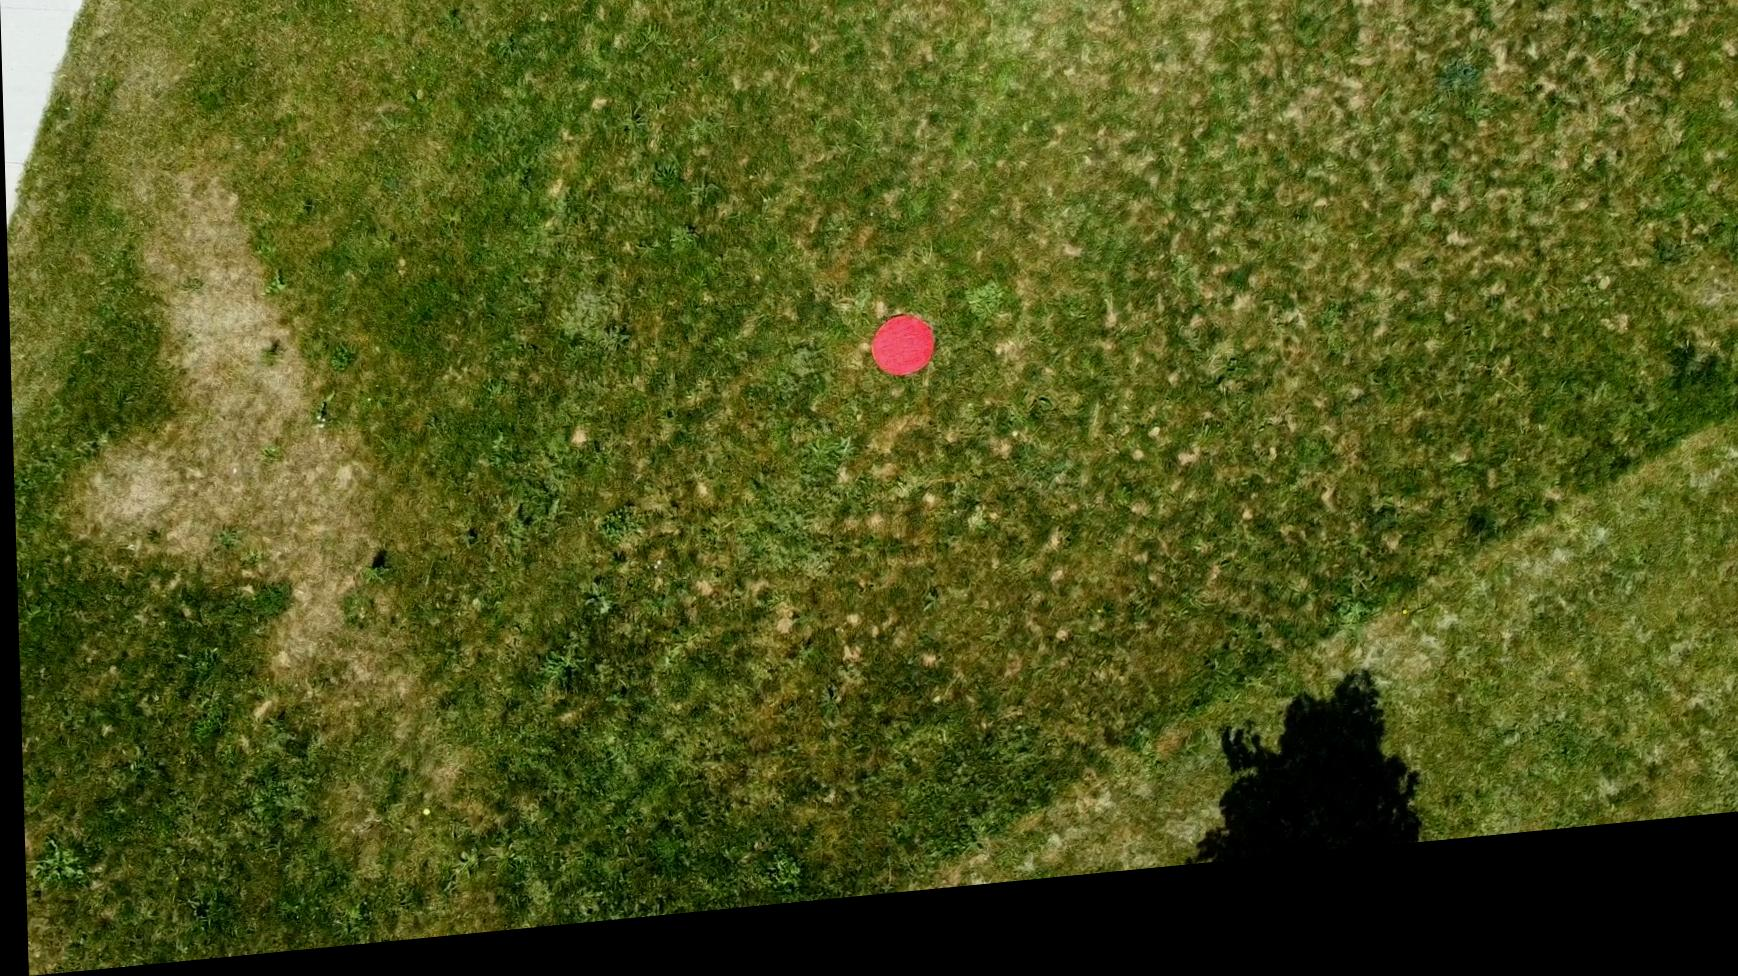Red: (865, 326, 935, 401)
